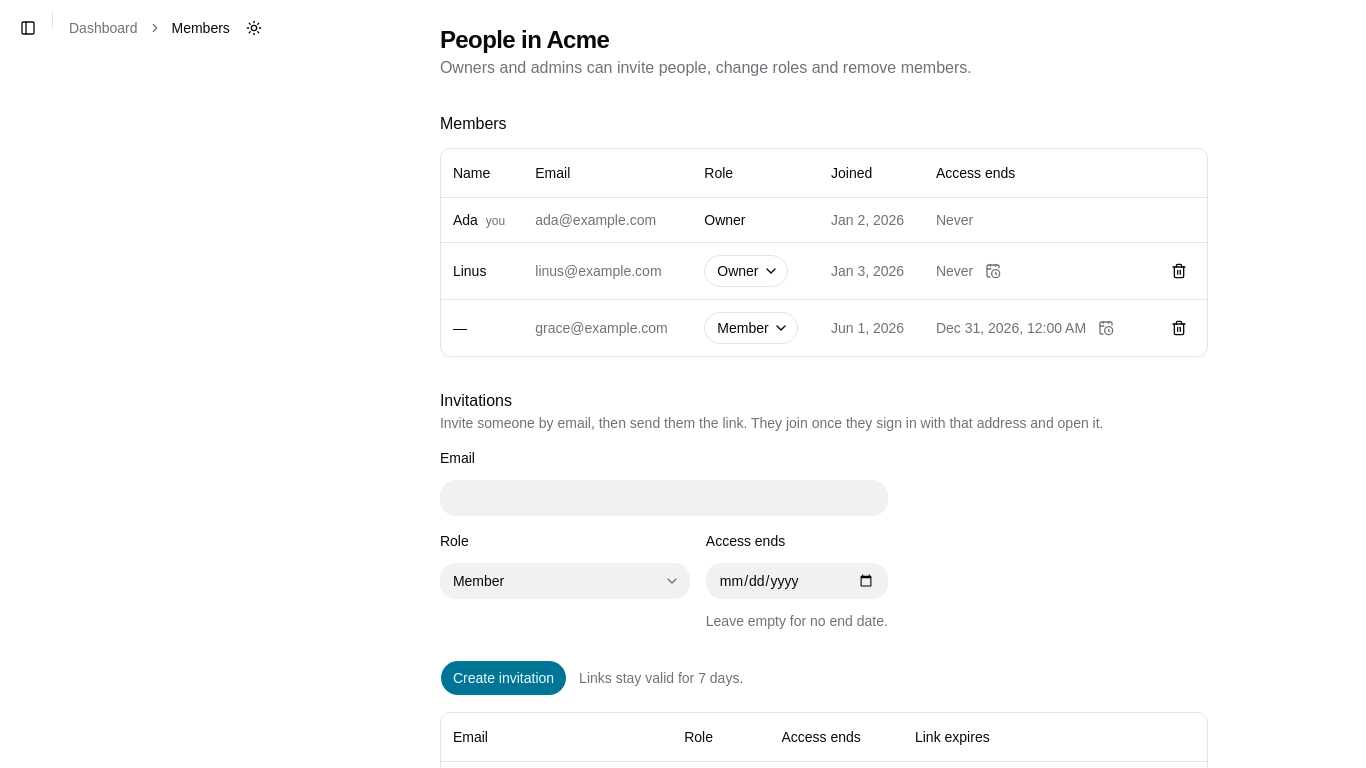
Test: MembersPage › asks before removing, then removes and surfaces a refusal
Click the button named "Remove Linus": point(1179, 270) x1=1163 y1=254 x2=1195 y2=286
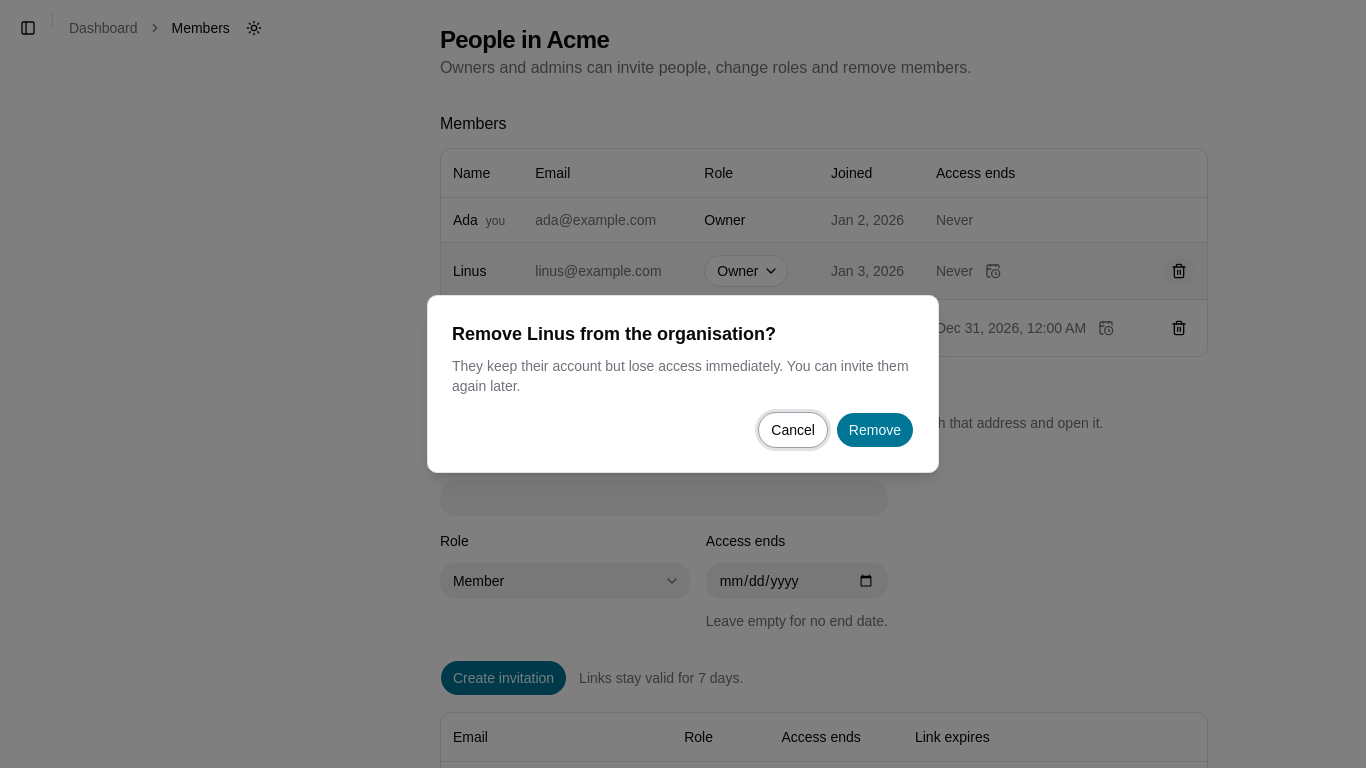
Expected: the dialog shows "Remove Linus from the organisation?", x1=452 y1=324 x2=776 y2=344
Click the button "Cancel": point(793, 430) x1=758 y1=412 x2=828 y2=448
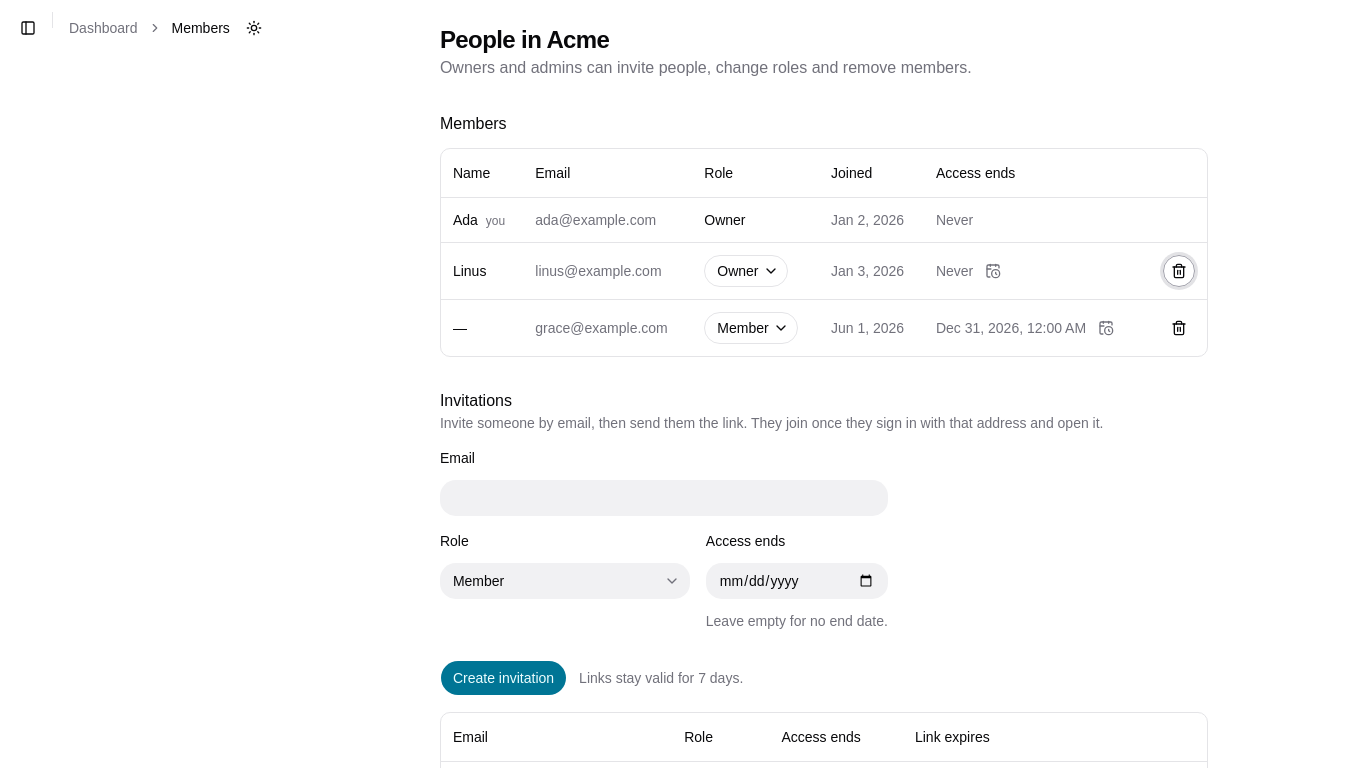
Click the button named "Remove Linus": point(1179, 270) x1=1163 y1=254 x2=1195 y2=286
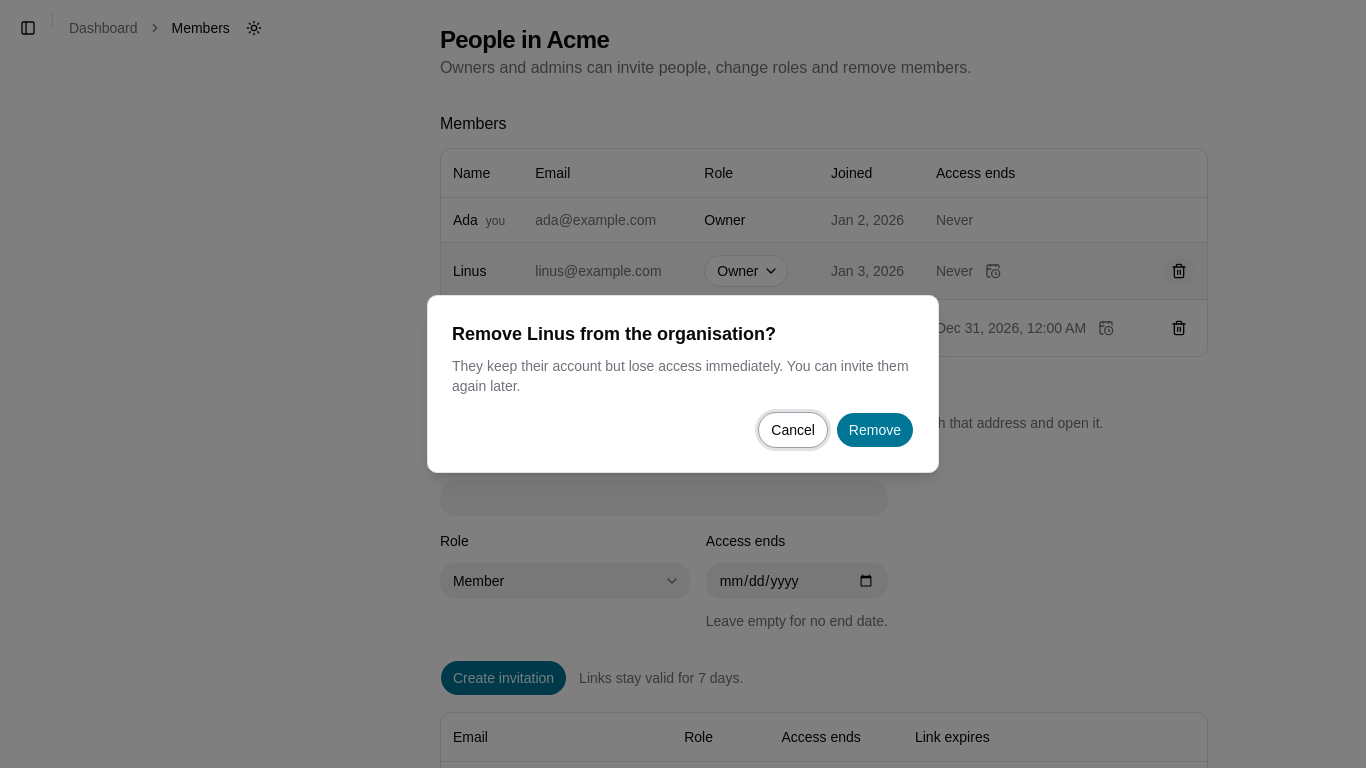
Click the button "Remove": point(875, 430) x1=836 y1=412 x2=914 y2=448
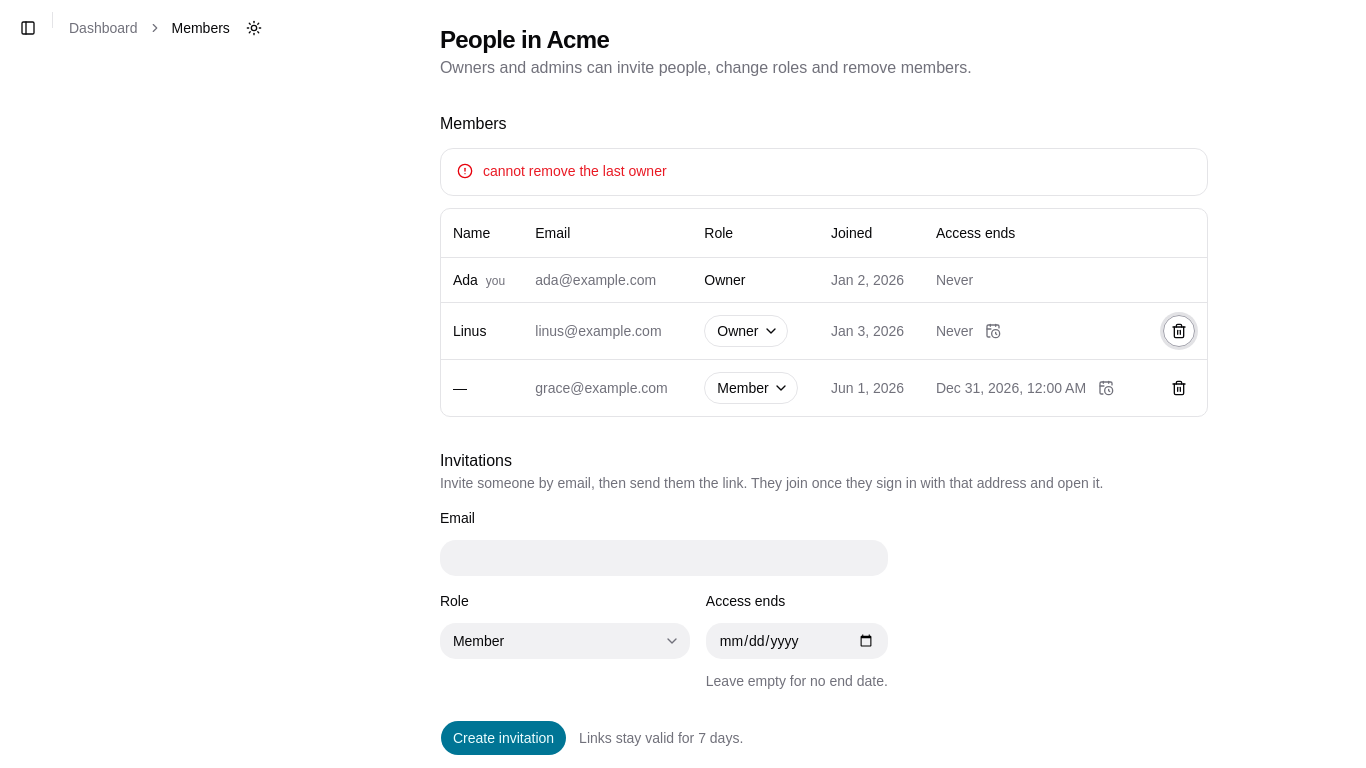
Expected: the text "cannot remove the last owner" is shown, x1=483 y1=163 x2=667 y2=179
